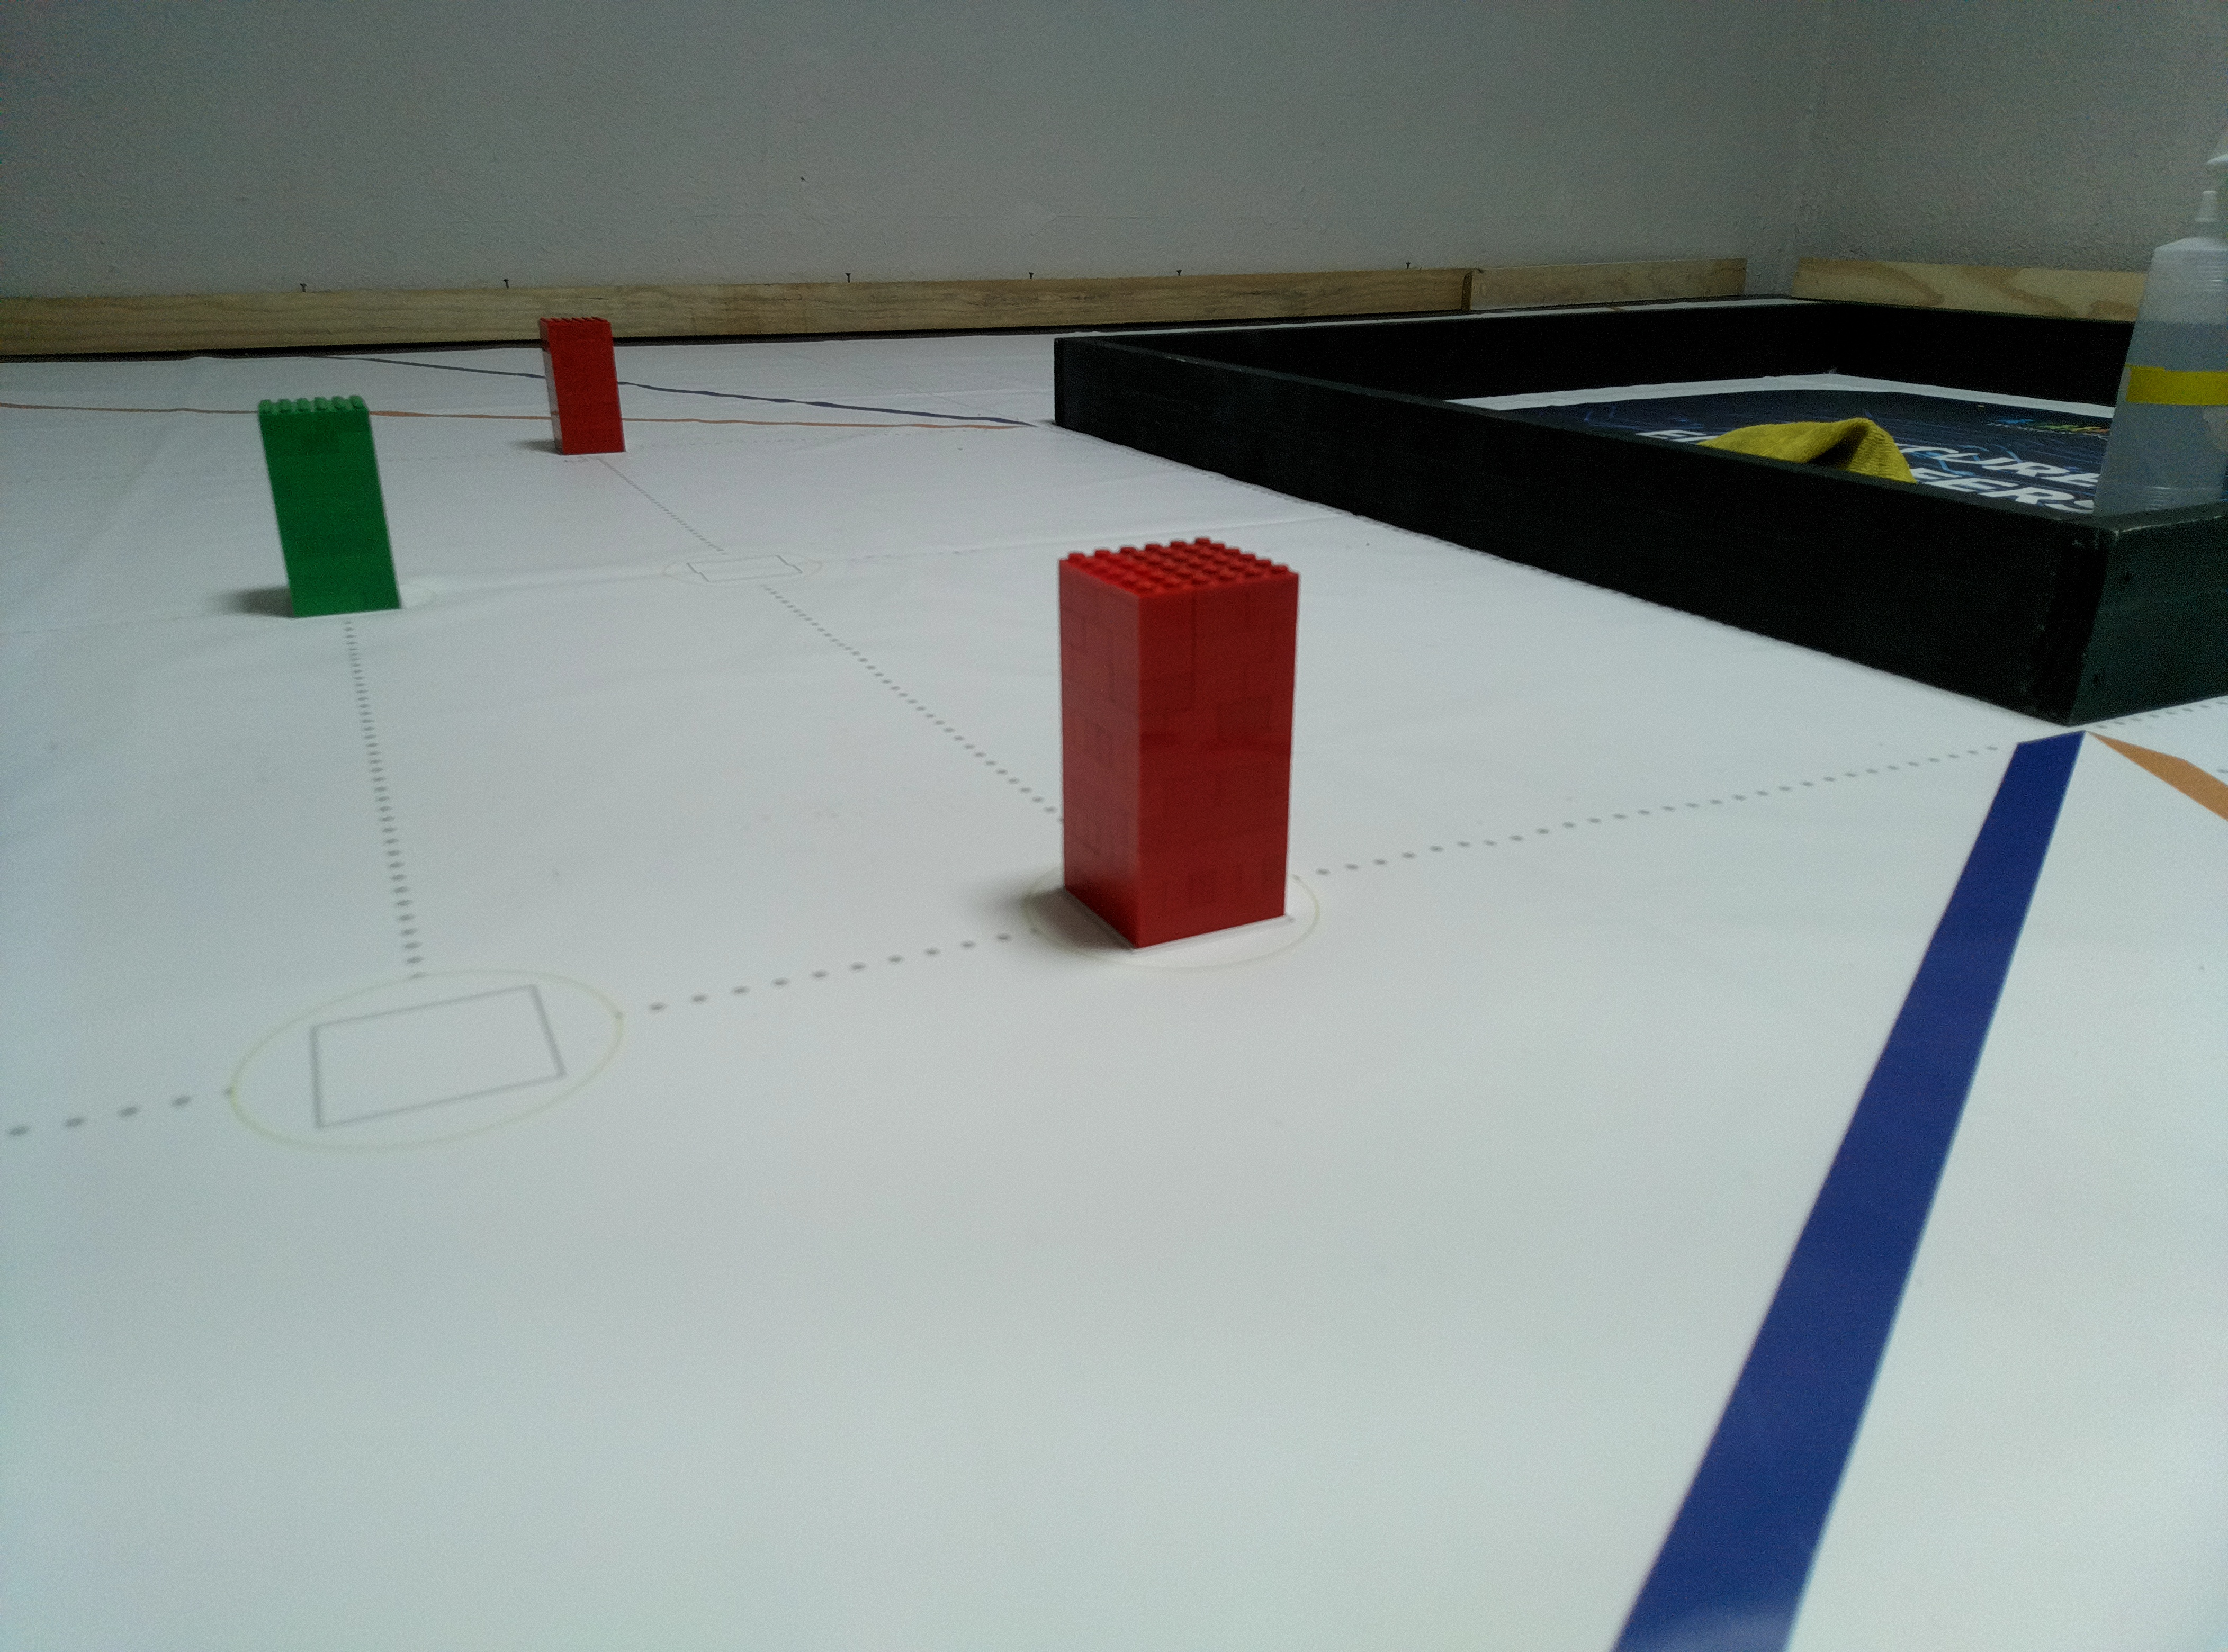greenbox: (255, 396, 404, 619)
redbox: (1053, 528, 1294, 949), (536, 316, 628, 456)
